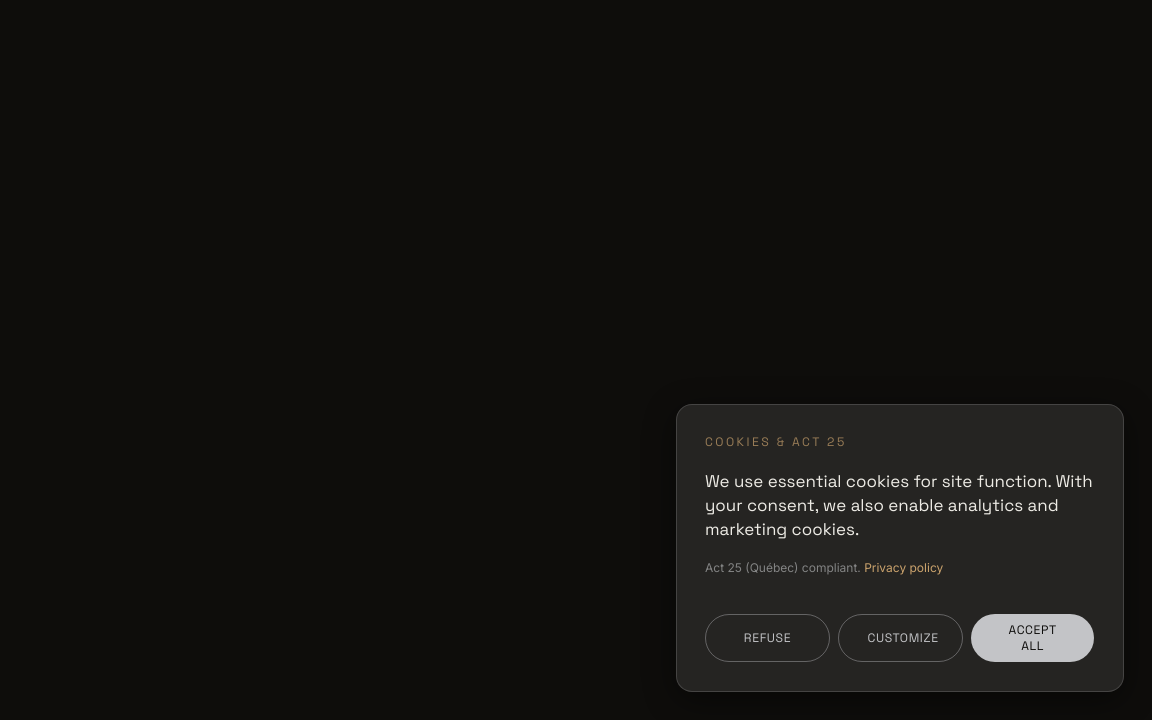
Scenario: CookieSettingsModal — EN locale › renders English toggle labels
Click the button "Customize" at (901, 638), box [838,614,963,662]
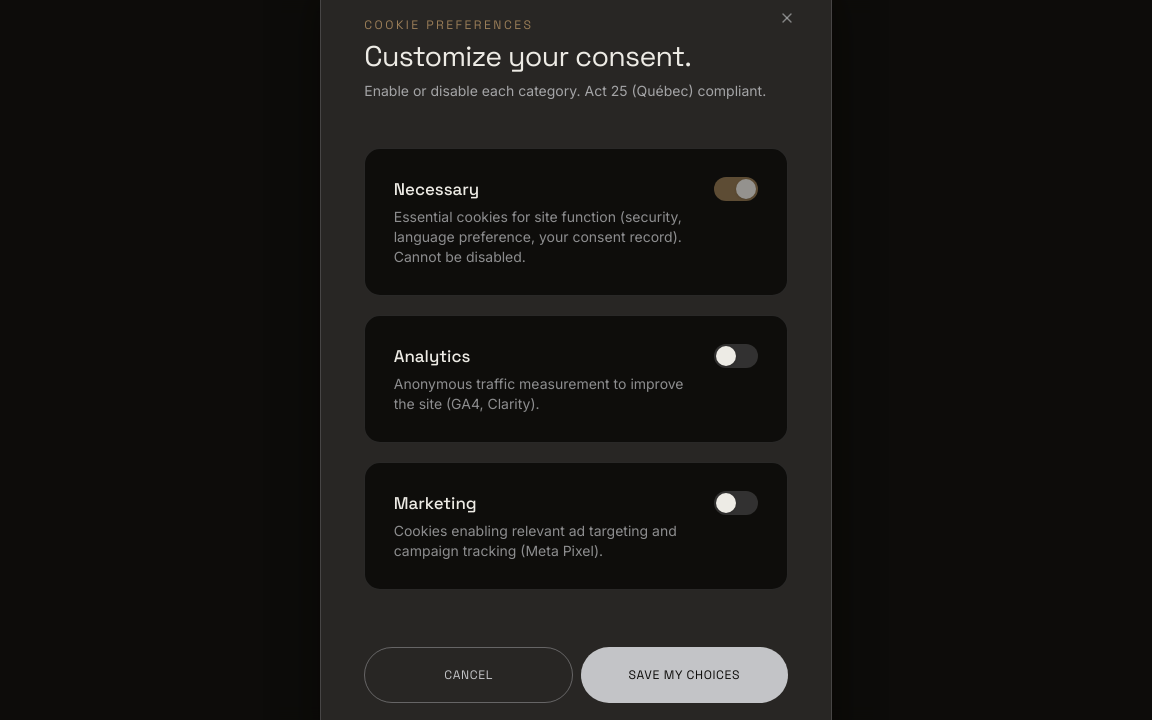
Expected: the text "Analytics" is shown, [394,345,470,367]
Result: the text "Necessary" is shown at [394,178,479,200]
Result: the button "Save my choices" is shown at [581,647,788,703]
